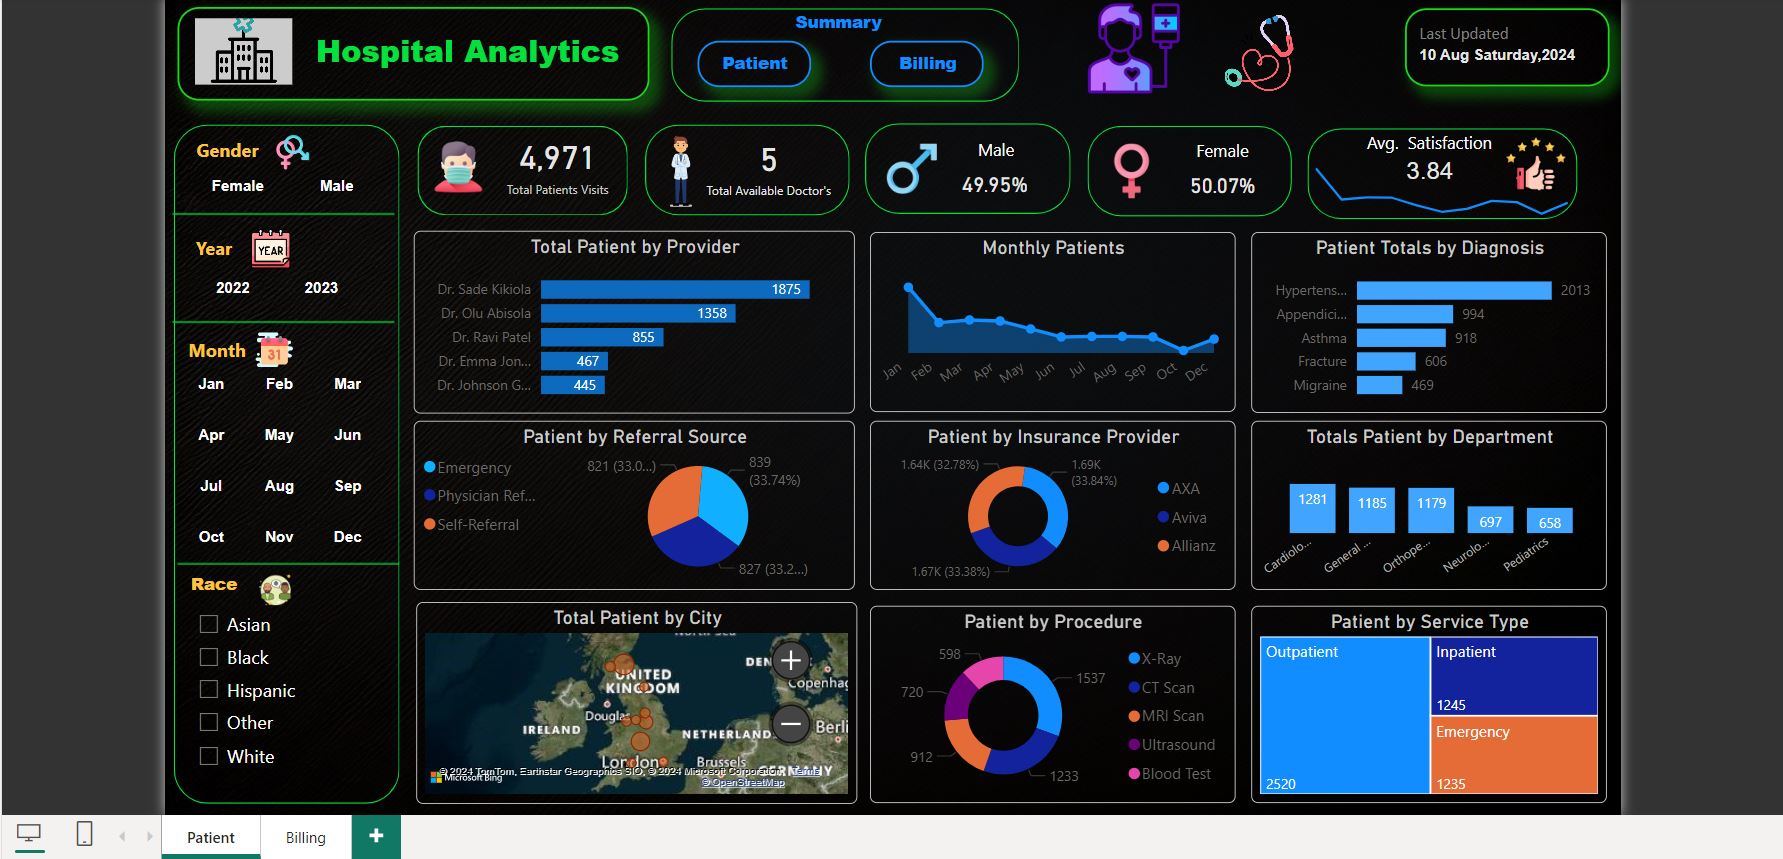

The page's visual inventory and layout, read from the dashboard file:
{"tool":"powerbi","page":{"name":"Patient","canvas":[1280,720],"ordinal":0},"visuals":[{"type":"textbox","box":[622.6,42.9,97.6,40.5],"z":0},{"type":"shape","title":"To","box":[222.5,113.5,185,78.8],"z":1000},{"type":"shape","box":[445.2,9.5,306,82.1],"z":2000},{"type":"treemap","title":"Patient  by Service Type","fields":{"Group":["visits.Service Type"],"Values":["CountNonNull(visits.Patient ID)"]},"box":[956,535.7,313.1,173.8],"z":3000},{"type":"textbox","box":[10.7,8.3,415.5,82.1],"z":4000},{"type":"actionButton","box":[26.2,19,85.7,58.3],"z":5000},{"type":"textbox","box":[1090.5,9.5,179.8,69],"z":6000},{"type":"actionButton","title":"Physician","box":[620.2,38,100,40.5],"z":7000},{"type":"textbox","box":[477.5,42.4,81.7,33.6],"z":7500,"group":"g1"},{"type":"actionButton","title":"Patient","box":[468,38,100,40.5],"z":8000,"group":"g1"},{"type":"shape","box":[7.5,112.5,198.8,597.5],"z":8000},{"type":"card","title":"Total Visited Patient","fields":{"Values":["patients.Total patient"]},"box":[273.8,107.5,143.8,77.5],"z":9000},{"type":"shape","title":"To","box":[421.7,112,180,80],"z":10000},{"type":"card","title":"Total Available Doctors","fields":{"Values":["CountNonNull(providers.Provider ID)"]},"box":[465,111.2,132.5,73.8],"z":11000},{"type":"slicer","title":"Race","fields":{"Values":["patients.Race"]},"box":[17.5,506.2,181.2,182.5],"z":12000},{"type":"shape","title":"To","box":[615.9,110.7,181,79.8],"z":13000},{"type":"shape","title":"To","box":[811,113.7,179.8,79.8],"z":14000},{"type":"card","title":"Total Available Doctors","fields":{"Values":["patients.Male %"]},"box":[695.2,145.2,70.2,41.7],"z":15000},{"type":"card","title":"Total Available Doctors","fields":{"Values":["patients.feMale %"]},"box":[895.2,141.7,70.2,50],"z":16000},{"type":"columnChart","title":"Totals Patient by Department","fields":{"Category":["departments.Department"],"Y":["CountNonNull(visits.Patient ID)"]},"box":[956,372.6,313.1,148.8],"z":17000},{"type":"clusteredBarChart","title":"Patient Totals by Diagnosis","fields":{"Y":["CountNonNull(visits.Patient ID)"],"Category":["diagnoses.Diagnosis"]},"box":[956,207.1,313.1,159.5],"z":18000},{"type":"barChart","title":"Total Patient  by Provider","fields":{"Category":["providers.Provider Name"],"Y":["CountNonNull(visits.Patient ID)"]},"box":[219,206,388.1,160.7],"z":19000},{"type":"areaChart","title":"Monthly Patients","fields":{"Category":["Table.Month"],"Y":["CountNonNull(visits.Patient ID)"]},"box":[620.2,207.1,321.4,158.3],"z":20000},{"type":"advancedSlicerVisual","fields":{"Values":["Table.Month"]},"box":[7.5,295,187.5,226.2],"z":21000},{"type":"textbox","box":[7.5,295,76.2,31.2],"z":22000},{"type":"group","id":"g1","title":"Group 1","box":[468,38,100,40.5],"z":23000},{"type":"map","fields":{"Category":["cities.City"],"Size":["CountNonNull(visits.Patient ID)"]},"box":[221.4,532.1,388.1,177.4],"z":24000},{"type":"donutChart","title":"Patient  by Insurance Provider","fields":{"Y":["CountNonNull(visits.Patient ID)"],"Category":["insurance.Insurance Provider"]},"box":[620.2,372.6,321.4,148.8],"z":25000},{"type":"donutChart","title":"Patient  by Procedure","fields":{"Y":["CountNonNull(visits.Patient ID)"],"Category":["procedures.Procedure"]},"box":[620.2,535.7,321.4,173.8],"z":26000},{"type":"pieChart","title":"Patient  by Referral Source","fields":{"Y":["Count(visits.Patient ID)"],"Category":["visits.Referral Source"]},"box":[219,372.6,388.1,148.8],"z":27000},{"type":"textbox","box":[9,204,68.8,31.2],"z":28000},{"type":"advancedSlicerVisual","fields":{"Values":["Calendar.Year"]},"box":[17.5,210,163.8,78.8],"z":29000},{"type":"advancedSlicerVisual","fields":{"Values":["patients.Gender"]},"box":[17.5,120,181.2,86.2],"z":30000},{"type":"textbox","box":[18,118.8,75,31.2],"z":31000},{"type":"shape","box":[7.1,182.1,195.2,16.7],"z":32000},{"type":"shape","box":[11.2,476.2,195,45],"z":33000},{"type":"shape","box":[7.1,264.3,195.2,44],"z":34000},{"type":"image","box":[417.5,116.2,72.5,73.8],"z":35000},{"type":"image","box":[918.8,8.8,86.2,81.2],"z":36000},{"type":"image","box":[231,120.2,54.8,59.5],"z":37000},{"type":"image","box":[625,123.8,65.5,53.6],"z":38000},{"type":"textbox","box":[690,118.8,81.2,35],"z":39000},{"type":"textbox","box":[890,120,81.2,35],"z":40000},{"type":"image","box":[816.2,123.8,68.8,57.5],"z":41000},{"type":"shape","title":"To","box":[1005,115,237.5,80],"z":42000},{"type":"lineChart","fields":{"Category":["Table.Month"],"Y":["Sum(visits.Patient Satisfaction Score)"]},"box":[1000,134.5,247.6,64.3],"z":43000},{"type":"textbox","box":[1030.3,113.3,163.8,36.3],"z":44000},{"type":"image","box":[1170,113.3,72.6,66],"z":45000},{"type":"image","box":[70.2,498.8,52.4,45.2],"z":46000},{"type":"image","box":[92.9,116.7,40.5,40.5],"z":47000},{"type":"image","box":[67.9,198.8,48.8,45.2],"z":48000},{"type":"image","box":[72.6,290.5,46.4,42.9],"z":49000},{"type":"textbox","box":[544,7,96.4,33.3],"z":50000},{"type":"image","box":[803.6,0,96.4,90.5],"z":50001},{"type":"card","title":"Total Available Doctors","fields":{"Values":["Avg(visits.Patient Satisfaction Score)"]},"box":[1080.9,129.8,63.8,48.4],"z":50002}]}

Visuals, with their boxes on the page's 1280x720 design canvas (x1, y1, x2, y2). These are canvas units, not pixel positions in the 1783x859 screenshot, which may show the page scaled, cropped or inside an application window:
textbox: <box>623,43,720,83</box>
"To" shape: <box>222,114,408,192</box>
shape: <box>445,10,751,92</box>
"Patient  by Service Type" treemap: <box>956,536,1269,710</box>
textbox: <box>11,8,426,90</box>
actionButton: <box>26,19,112,77</box>
textbox: <box>1090,10,1270,78</box>
"Physician" actionButton: <box>620,38,720,78</box>
textbox: <box>478,42,559,76</box>
"Patient" actionButton: <box>468,38,568,78</box>
shape: <box>8,112,206,710</box>
"Total Visited Patient" card: <box>274,108,418,185</box>
"To" shape: <box>422,112,602,192</box>
"Total Available Doctors" card: <box>465,111,598,185</box>
"Race" slicer: <box>18,506,199,689</box>
"To" shape: <box>616,111,797,190</box>
"To" shape: <box>811,114,991,194</box>
"Total Available Doctors" card: <box>695,145,765,187</box>
"Total Available Doctors" card: <box>895,142,965,192</box>
"Totals Patient by Department" columnChart: <box>956,373,1269,521</box>
"Patient Totals by Diagnosis" clusteredBarChart: <box>956,207,1269,367</box>
"Total Patient  by Provider" barChart: <box>219,206,607,367</box>
"Monthly Patients" areaChart: <box>620,207,942,365</box>
advancedSlicerVisual - Table.Month: <box>8,295,195,521</box>
textbox: <box>8,295,84,326</box>
"Group 1" group: <box>468,38,568,78</box>
map - cities.City x CountNonNull(visits.Patient ID): <box>221,532,610,710</box>
"Patient  by Insurance Provider" donutChart: <box>620,373,942,521</box>
"Patient  by Procedure" donutChart: <box>620,536,942,710</box>
"Patient  by Referral Source" pieChart: <box>219,373,607,521</box>
textbox: <box>9,204,78,235</box>
advancedSlicerVisual - Calendar.Year: <box>18,210,181,289</box>
advancedSlicerVisual - patients.Gender: <box>18,120,199,206</box>
textbox: <box>18,119,93,150</box>
shape: <box>7,182,202,199</box>
shape: <box>11,476,206,521</box>
shape: <box>7,264,202,308</box>
image: <box>418,116,490,190</box>
image: <box>919,9,1005,90</box>
image: <box>231,120,286,180</box>
image: <box>625,124,690,177</box>
textbox: <box>690,119,771,154</box>
textbox: <box>890,120,971,155</box>
image: <box>816,124,885,181</box>
"To" shape: <box>1005,115,1242,195</box>
lineChart - Table.Month x Sum(visits.Patient Satisfaction Score): <box>1000,134,1248,199</box>
textbox: <box>1030,113,1194,150</box>
image: <box>1170,113,1243,179</box>
image: <box>70,499,123,544</box>
image: <box>93,117,133,157</box>
image: <box>68,199,117,244</box>
image: <box>73,290,119,333</box>
textbox: <box>544,7,640,40</box>
image: <box>804,0,900,90</box>
"Total Available Doctors" card: <box>1081,130,1145,178</box>
